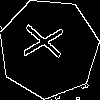X: (24, 23, 73, 61)
